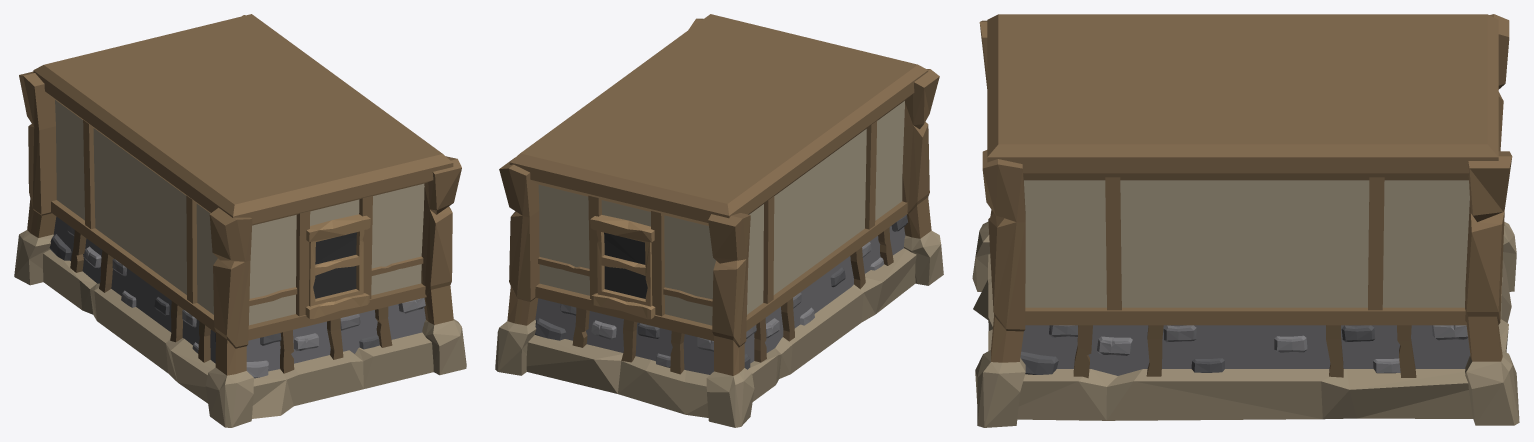
The model's file is SM_Bld_House_Foundation_06.gltf.
3 views of the same model, side by side, from view 1: azimuth 30°, elevation 25°; view 2: azimuth 150°, elevation 25°; view 3: azimuth 270°, elevation 25° (orthographic). The views are drawn at different scales.
Parts seen in each view (by area): view 1: SM_Bld_House_Foundation_06; view 2: SM_Bld_House_Foundation_06; view 3: SM_Bld_House_Foundation_06.
Boxes of the visible parts, x1,y1,x2,y2 form: SM_Bld_House_Foundation_06: (14, 14, 466, 427); SM_Bld_House_Foundation_06: (495, 14, 943, 427); SM_Bld_House_Foundation_06: (972, 14, 1519, 427).
Size of the model in its own units: 3.43 by 2.81 by 5.12.
Materials: 1 (1 with a texture image).
